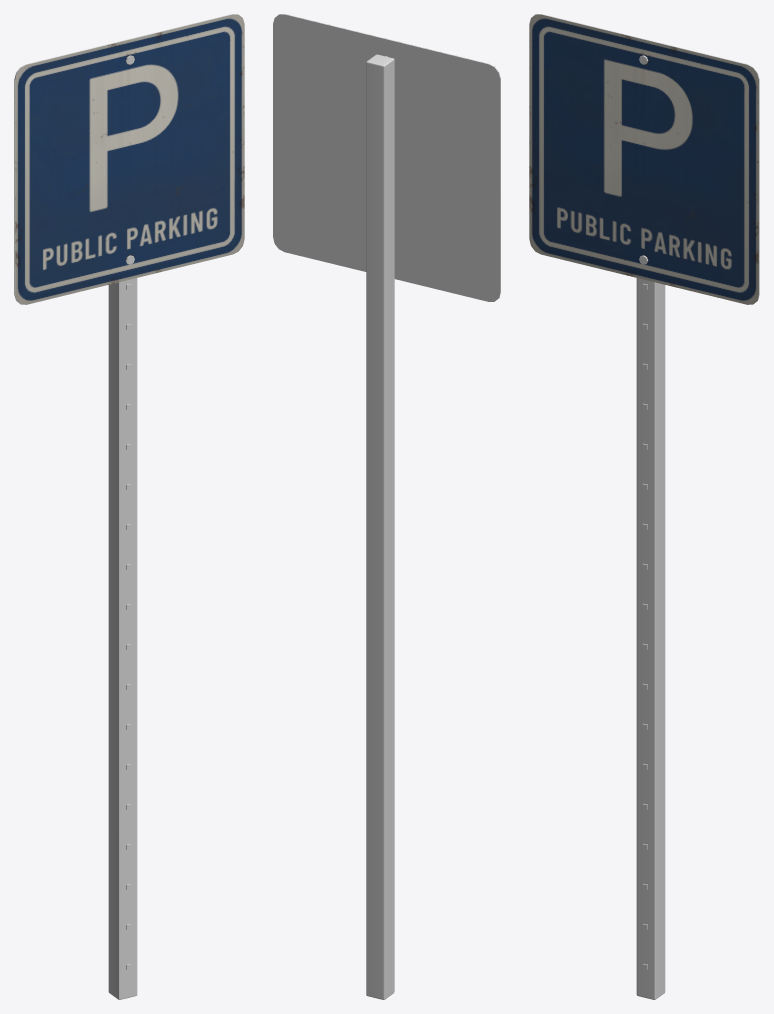
Rendered from SM_Sign_Parking.fbx.
3 renders of one model, left to right at view 1: azimuth 30°, elevation 25°; view 2: azimuth 150°, elevation 25°; view 3: azimuth 330°, elevation 25°, orthographic.
Visible parts, largest first — view 1: SM_Sign_Parking_1; view 2: SM_Sign_Parking_1; view 3: SM_Sign_Parking_1.
Part boxes in pixels (x1,y1,x2,y2): SM_Sign_Parking_1: (14,14,244,999); SM_Sign_Parking_1: (273,14,500,999); SM_Sign_Parking_1: (529,14,759,999).
Bounding box in the file's own units: 60 × 240 × 6.1.
